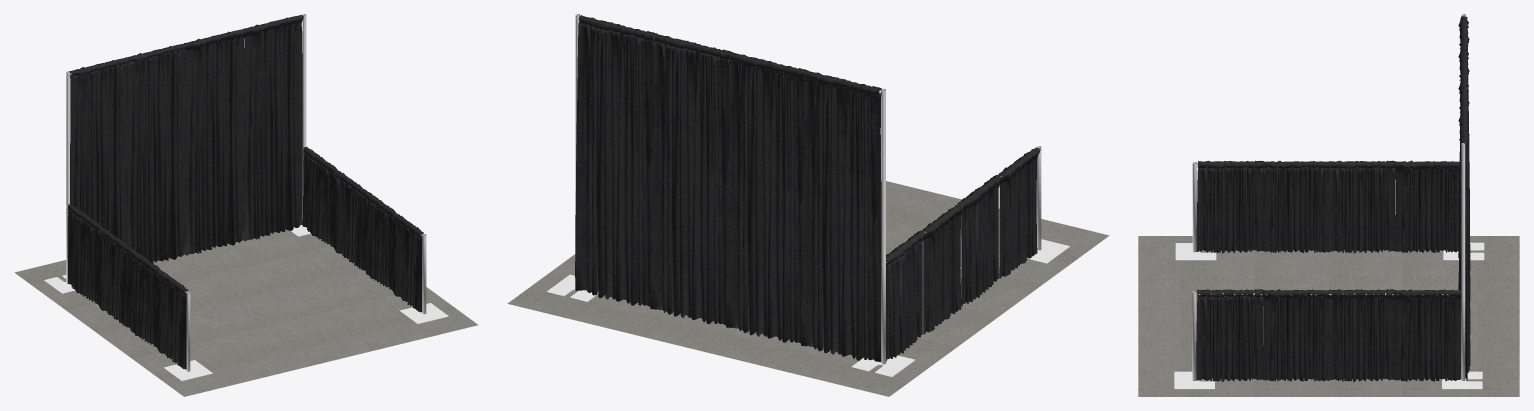
Rendered from 10x10 Pipe and Drape Web.glb.
The picture shows the model from 3 angles, left to right: view 1: azimuth 30°, elevation 25°; view 2: azimuth 150°, elevation 25°; view 3: azimuth 270°, elevation 25°; orthographic projection. The views are drawn at different scales.
Parts seen in each view (by area): view 1: carpet, drape_back_4, drape_back_3, drape_back_2, drape_back_1, drape_left_3, drape_right_3, drape_right_4, drape_right_1, drape_left_1, drape_left_4, drape_left_2 (+5 smaller); view 2: drape_back_1, carpet, drape_back_2, drape_back_3, drape_back_4, drape_left_3, drape_left_4, drape_left_2, drape_left_1, back_left_upright, baseplate_back_left, baseplate_back_right (+2 smaller); view 3: carpet, drape_left_2, drape_right_4, drape_left_4, drape_right_2, drape_right_1, drape_right_3, drape_left_3, drape_left_1, drape_back_4, back_right_upright, drape_back_3 (+8 smaller).
Boxes of the visible parts, bbox=[...] form: carpet: bbox=[14, 229, 478, 396]; drape_back_4: bbox=[243, 15, 303, 241]; drape_back_3: bbox=[184, 29, 245, 255]; drape_back_2: bbox=[125, 43, 187, 262]; drape_back_1: bbox=[69, 57, 129, 243]; drape_left_3: bbox=[126, 247, 159, 346]; drape_right_3: bbox=[361, 189, 394, 289]; drape_right_4: bbox=[390, 211, 423, 312]; drape_right_1: bbox=[302, 146, 336, 246]; drape_left_1: bbox=[67, 204, 100, 304]; drape_left_4: bbox=[154, 269, 188, 369]; drape_left_2: bbox=[96, 226, 129, 325]; drape_back_1: bbox=[800, 70, 881, 361]; carpet: bbox=[507, 180, 1109, 396]; drape_back_2: bbox=[725, 52, 808, 343]; drape_back_3: bbox=[650, 33, 732, 324]; drape_back_4: bbox=[575, 15, 656, 306]; drape_left_3: bbox=[957, 175, 1002, 307]; drape_left_4: bbox=[997, 147, 1040, 278]; drape_left_2: bbox=[921, 203, 964, 334]; drape_left_1: bbox=[886, 230, 926, 362]; back_left_upright: bbox=[881, 89, 885, 364]; baseplate_back_left: bbox=[851, 355, 915, 377]; baseplate_back_right: bbox=[546, 274, 598, 302]; carpet: bbox=[1138, 236, 1519, 396]; drape_left_2: bbox=[1328, 160, 1395, 253]; drape_right_4: bbox=[1196, 289, 1263, 381]; drape_left_4: bbox=[1196, 160, 1263, 253]; drape_right_2: bbox=[1327, 289, 1394, 381]; drape_right_1: bbox=[1394, 289, 1461, 381]; drape_right_3: bbox=[1263, 289, 1329, 381]; drape_left_3: bbox=[1263, 160, 1330, 252]; drape_left_1: bbox=[1395, 160, 1459, 252]; drape_back_4: bbox=[1458, 111, 1470, 380]; back_right_upright: bbox=[1461, 143, 1465, 380]; drape_back_3: bbox=[1458, 79, 1470, 333].
Bounding box in the file's own units: 3.56 × 2.45 × 3.56.
14 materials, 13 textured.
